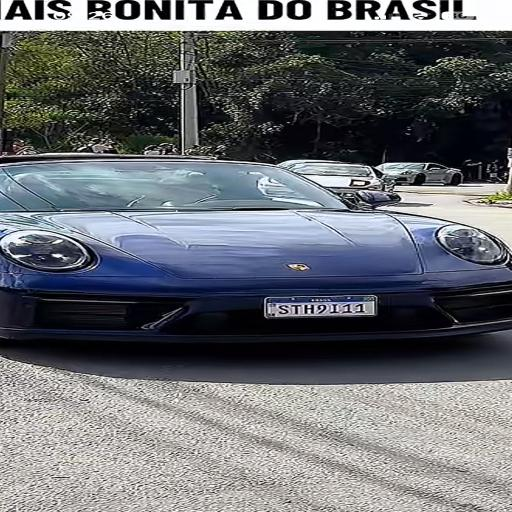detec-o-placas: (197, 268, 451, 334)
